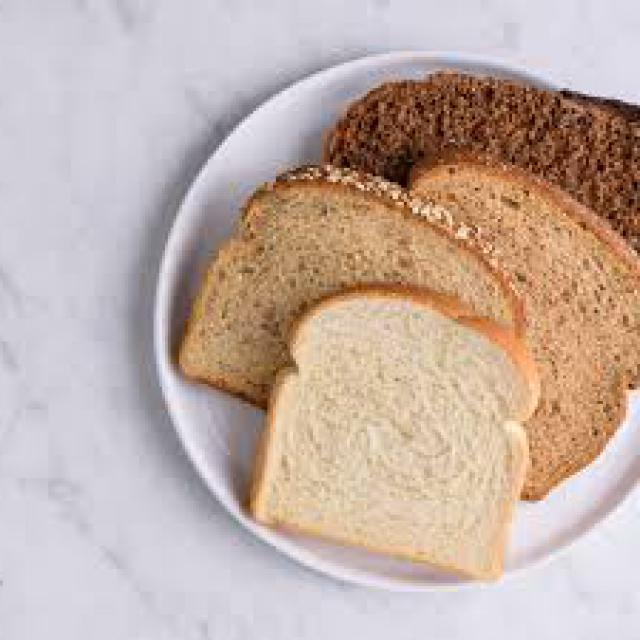Bread: (252, 292, 538, 570)
